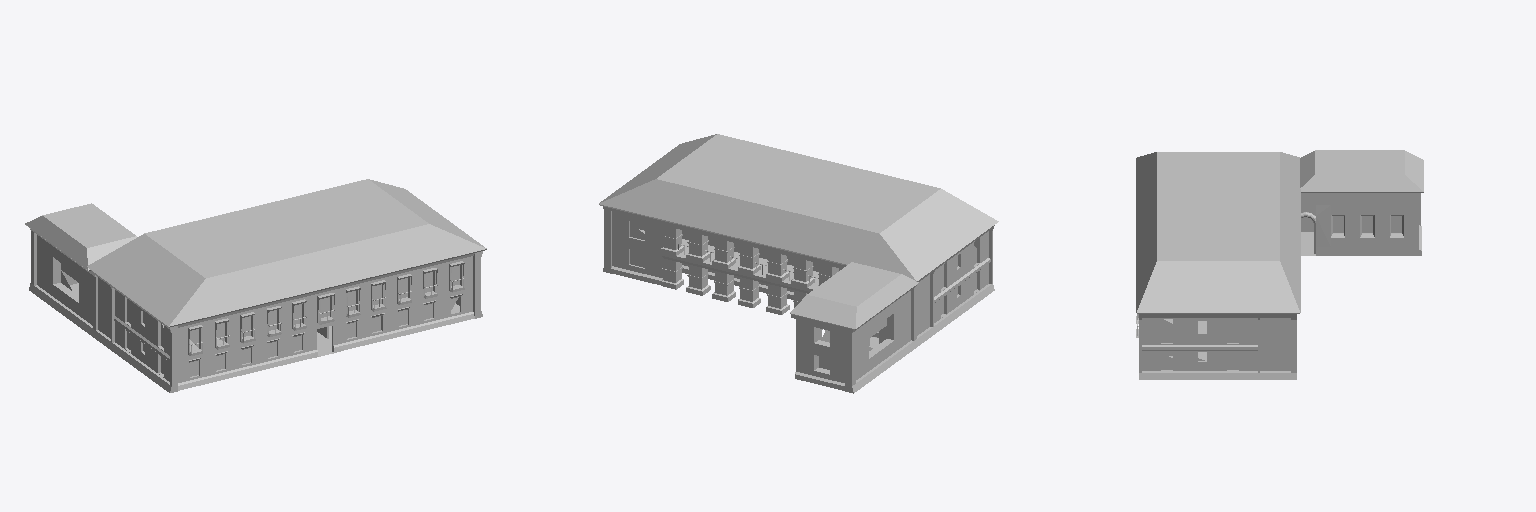
Rendered from MuseuPIBIC.obj.
The picture shows the model from 3 angles: view 1: azimuth 30°, elevation 25°; view 2: azimuth 150°, elevation 25°; view 3: azimuth 270°, elevation 25°; orthographic projection.
Parts seen in each view (by area): view 1: Cube; view 2: Cube; view 3: Cube.
Boxes of the visible parts, <box> form: Cube: <box>25,179,486,392</box>; Cube: <box>599,134,998,393</box>; Cube: <box>1136,150,1423,379</box>.
Size of the model in its own units: 7.95 by 2.37 by 6.21.